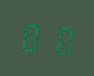eight: (19, 17, 45, 55)
zero: (46, 20, 72, 58)
